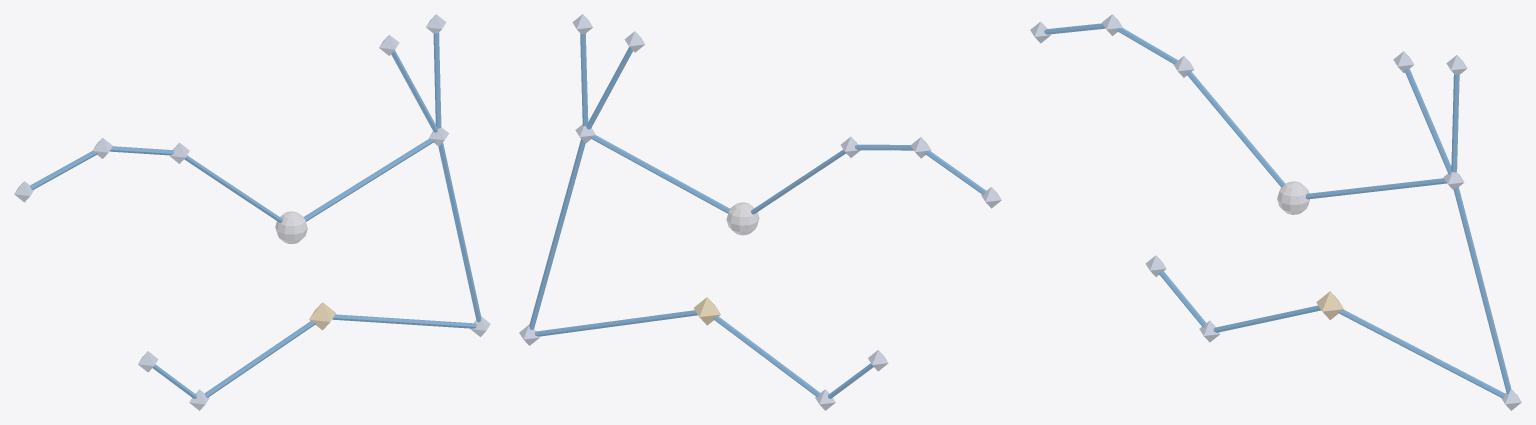
The model's file is constellation-lep.glb.
The picture shows the model from 3 angles, left to right: view 1: azimuth 30°, elevation 25°; view 2: azimuth 150°, elevation 25°; view 3: azimuth 330°, elevation 25°; orthographic projection. The views are drawn at different scales.
Size of the model in its own units: 1.57 by 1.06 by 0.1433.
